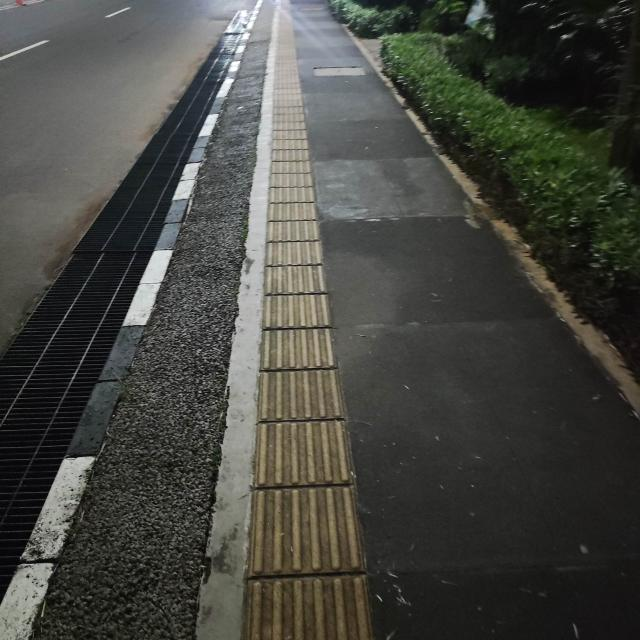lurus: (230, 7, 367, 640)
